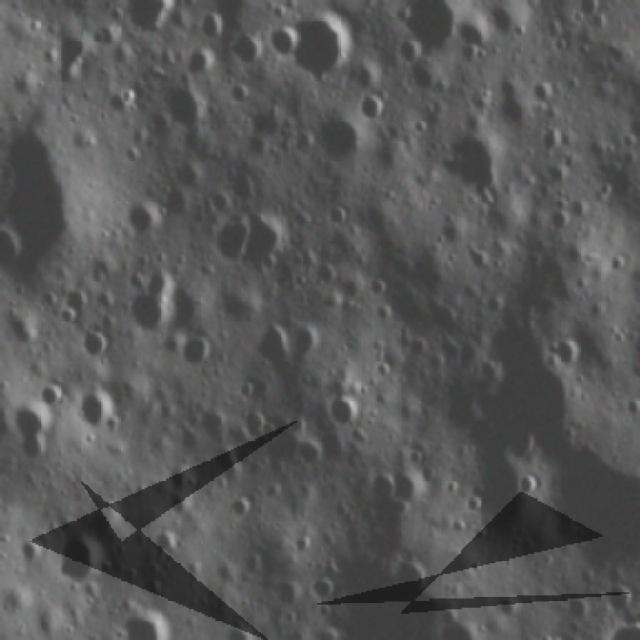crater: (284, 7, 356, 82), (50, 530, 110, 587), (102, 603, 182, 640), (120, 285, 172, 341), (72, 386, 121, 440), (203, 212, 248, 270), (380, 554, 437, 597), (477, 3, 535, 40), (251, 319, 291, 370), (122, 201, 167, 242), (451, 10, 489, 56), (326, 394, 368, 434), (285, 322, 324, 362), (268, 19, 300, 67), (174, 48, 214, 84), (549, 332, 586, 370), (388, 466, 424, 505), (352, 90, 388, 128), (178, 333, 213, 370), (600, 583, 638, 617), (146, 522, 180, 560), (74, 327, 112, 361), (229, 35, 265, 70), (34, 377, 64, 417), (170, 163, 208, 194), (195, 8, 227, 40), (304, 572, 338, 602), (560, 594, 594, 623), (227, 490, 256, 524), (322, 203, 355, 232), (542, 208, 575, 235), (492, 593, 523, 621), (562, 196, 595, 222), (536, 126, 566, 154), (526, 78, 556, 105), (222, 81, 255, 105), (544, 160, 570, 188), (518, 472, 542, 499)
